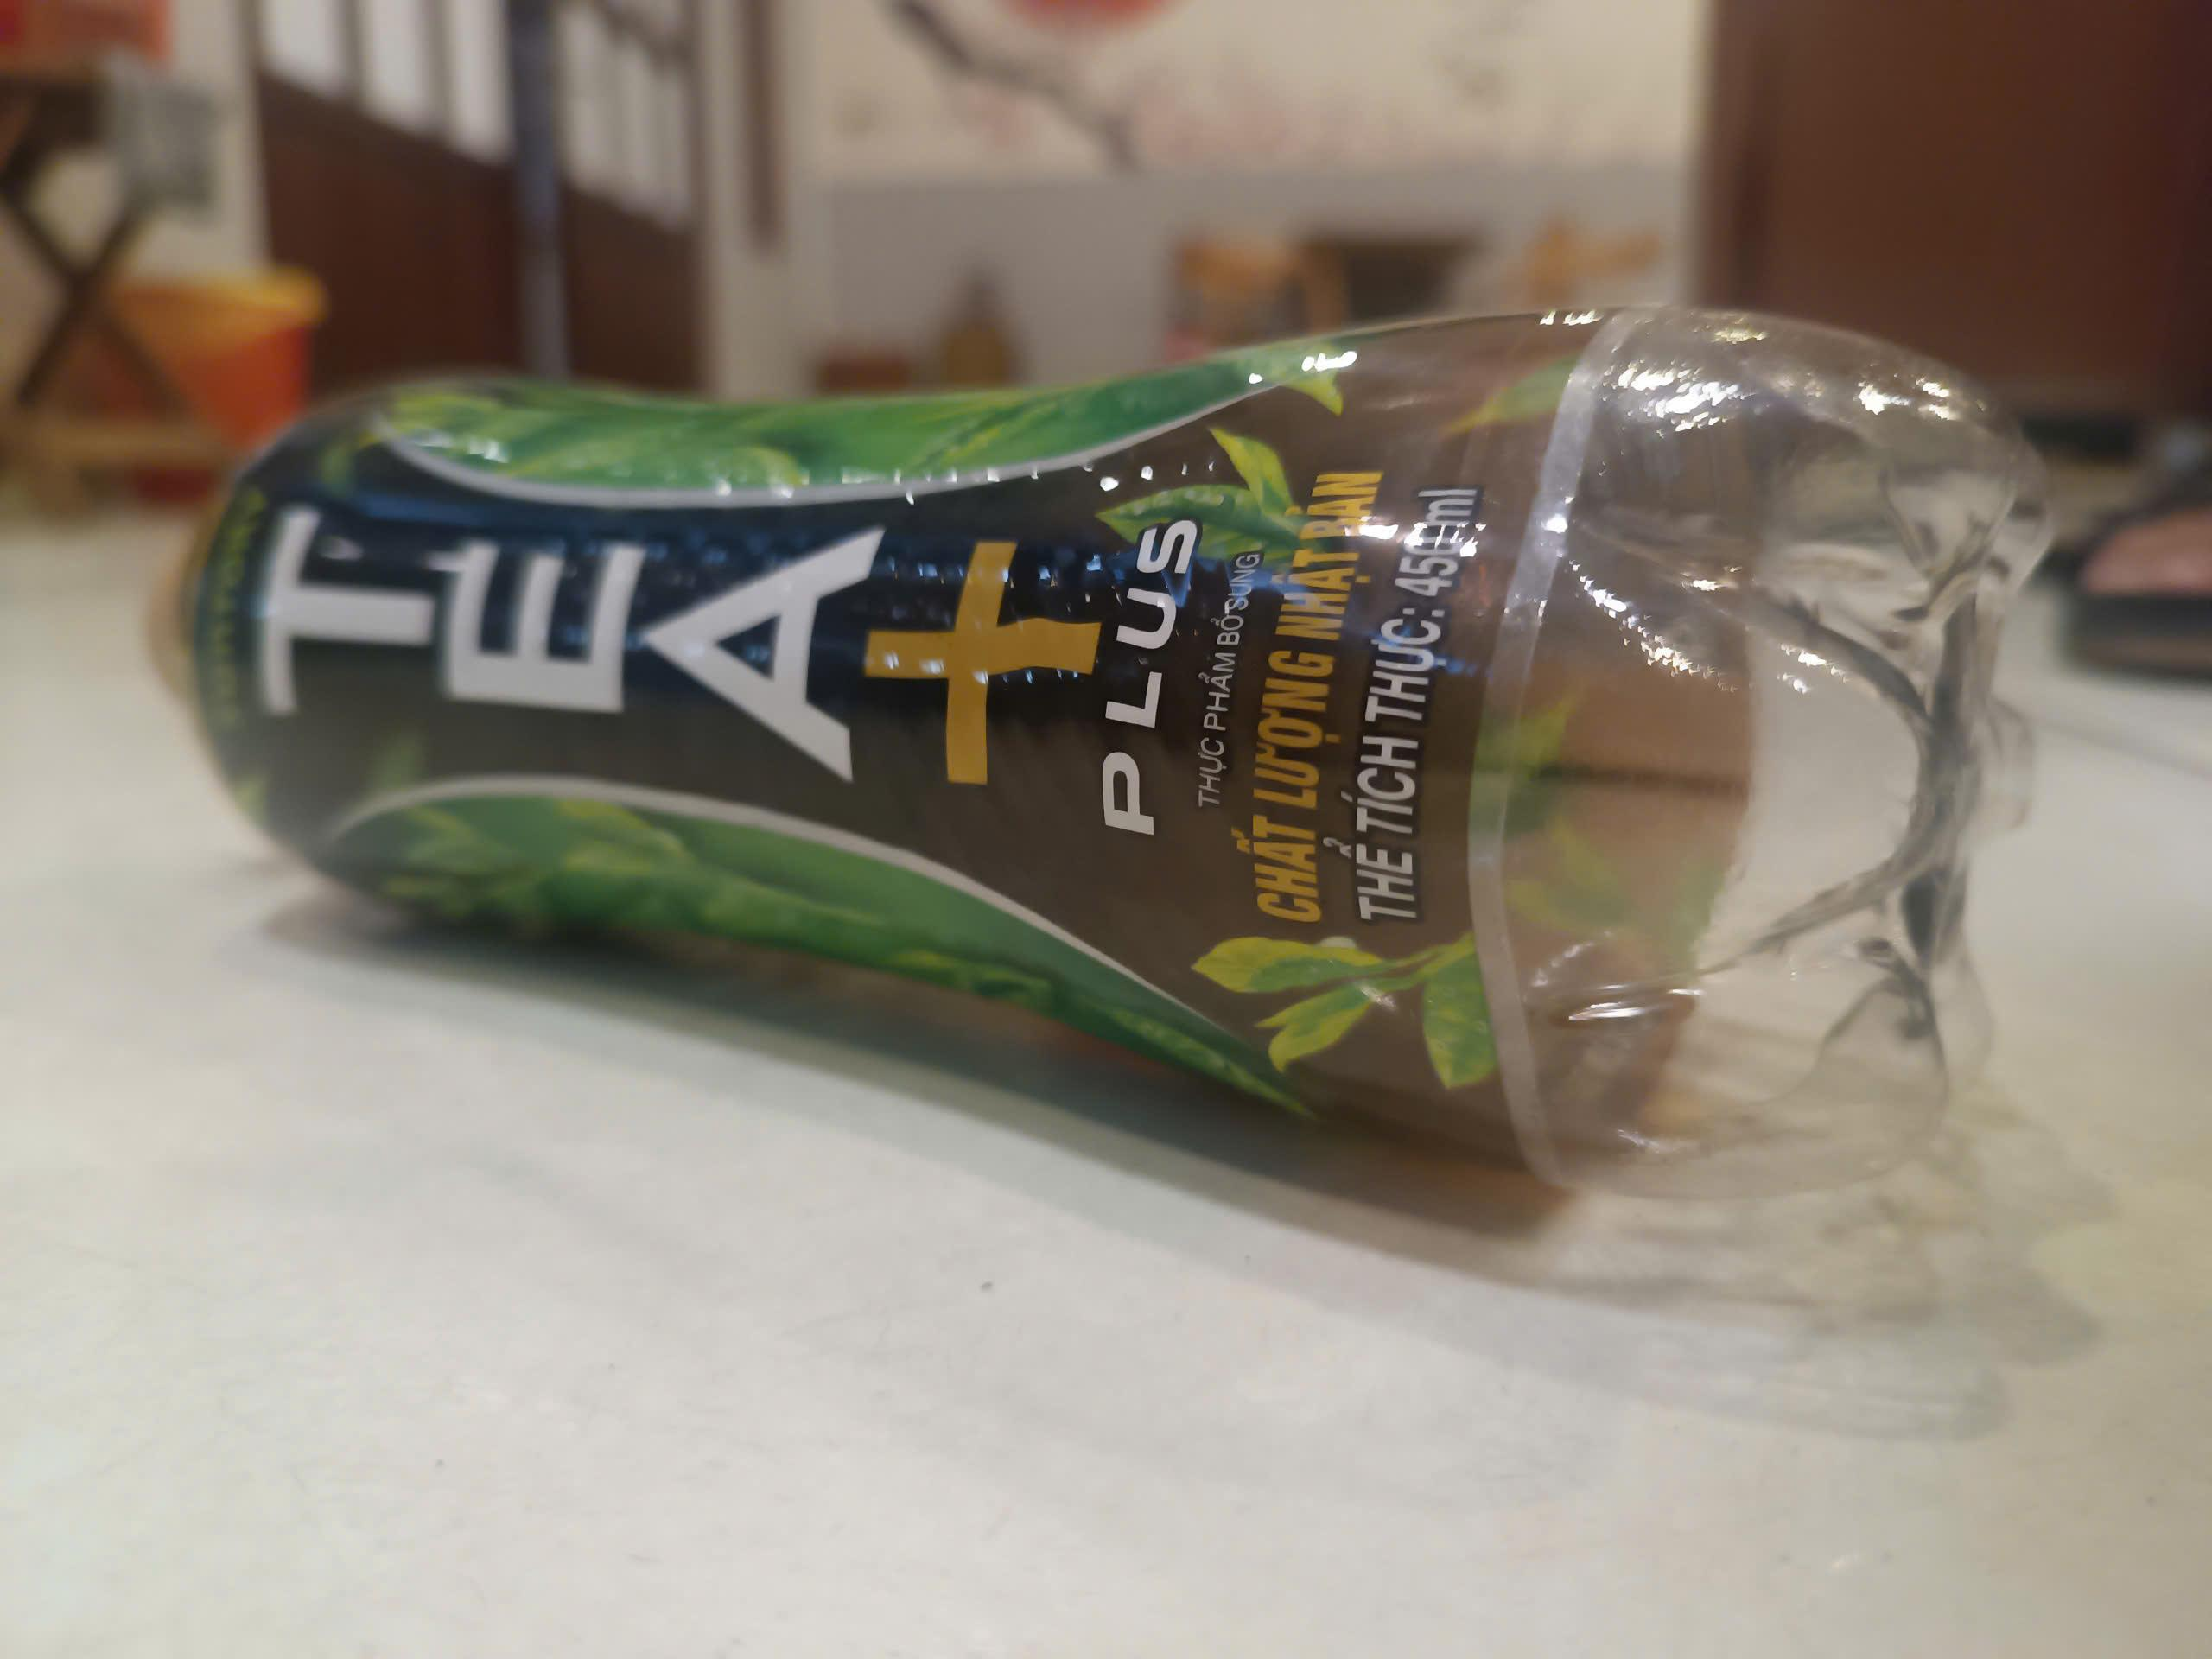Vo co: (141, 308, 2041, 1197)
